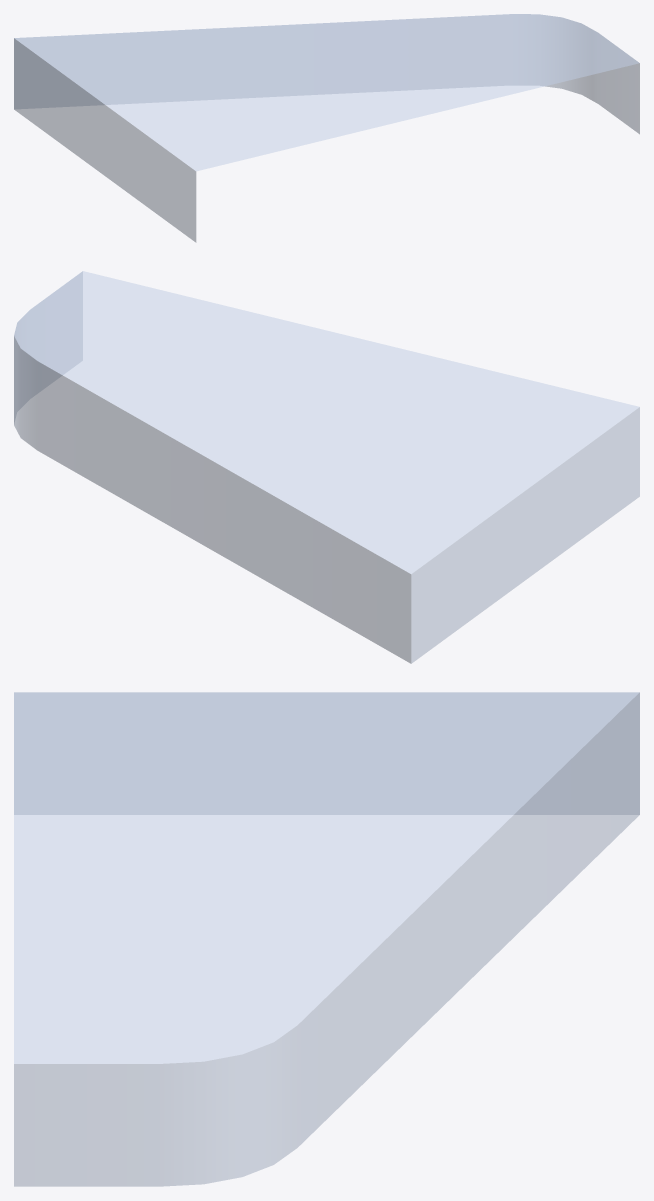
The model's file is Left Apron.FBX.
3 renders of one model, top to bottom at view 1: azimuth 30°, elevation 25°; view 2: azimuth 150°, elevation 25°; view 3: azimuth 270°, elevation 25°, orthographic. The views are drawn at different scales.
Parts seen in each view (by area): view 1: Left Apron; view 2: Left Apron; view 3: Left Apron.
Part boxes in pixels (<box>): Left Apron: <box>14,14,639,242</box>; Left Apron: <box>14,271,639,663</box>; Left Apron: <box>14,692,639,1186</box>.
Size of the model in its own units: 0.1756 by 0.027 by 0.1249.
